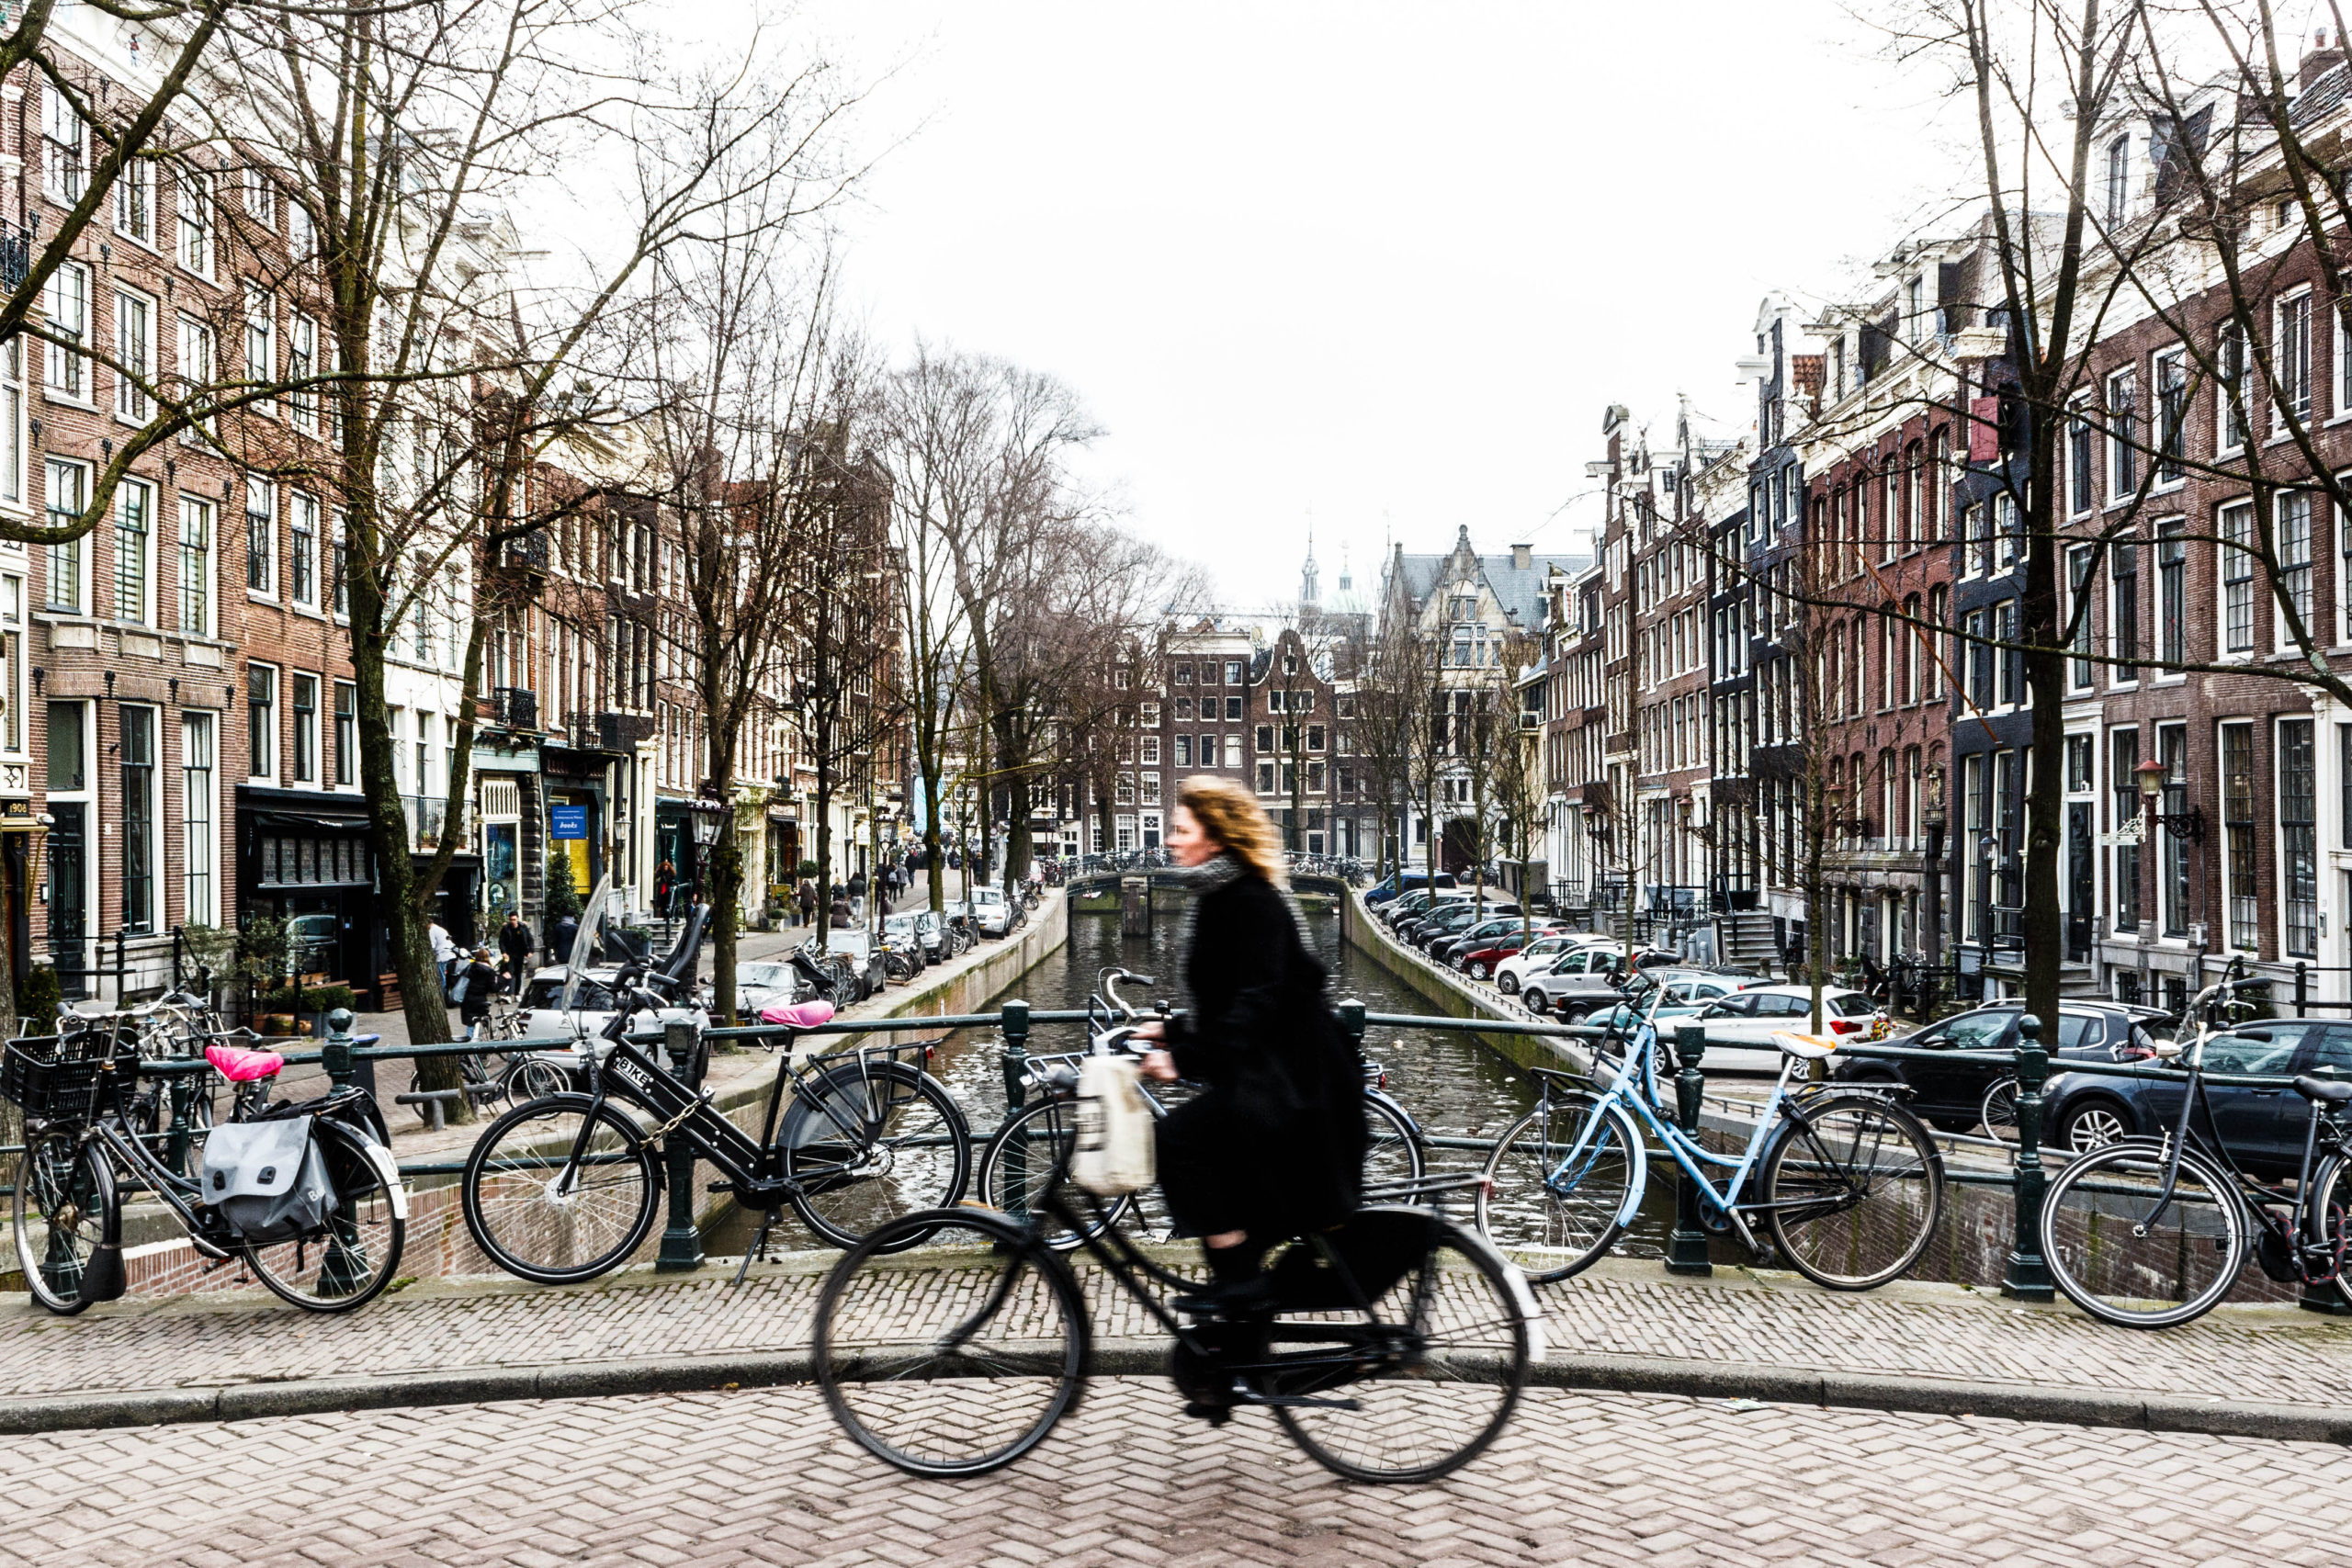commuter: (810, 777, 1552, 1482)
